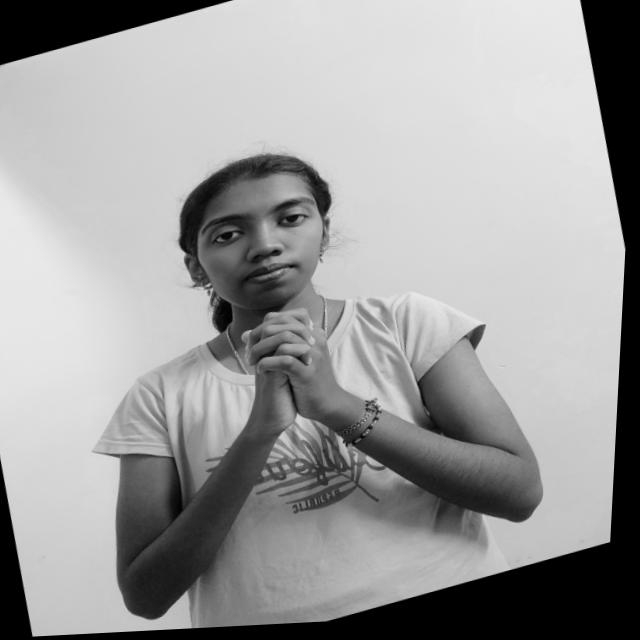Sorry: (212, 287, 386, 467)
